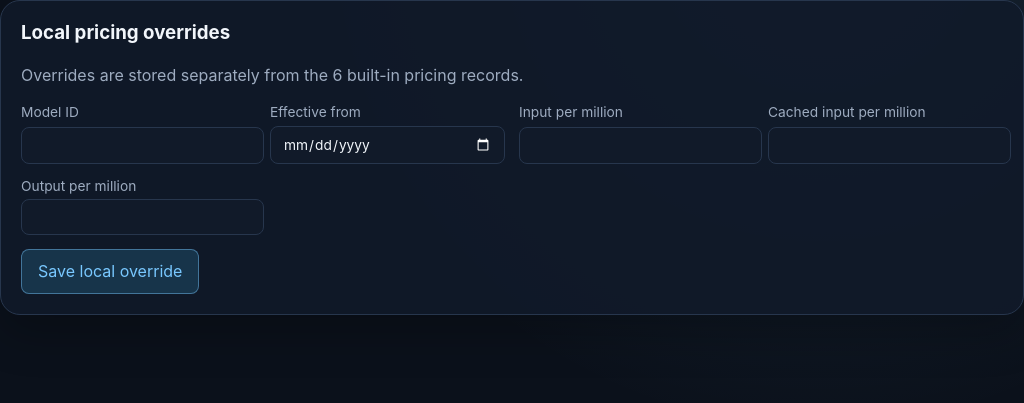
PricingEditor › persists local pricing overrides separately without mutating built-in pricing
This screenshot has width=1024, height=403.
Type "future-model-x" into the field labelled "Model ID" at (142, 145), box [21,127,264,164]
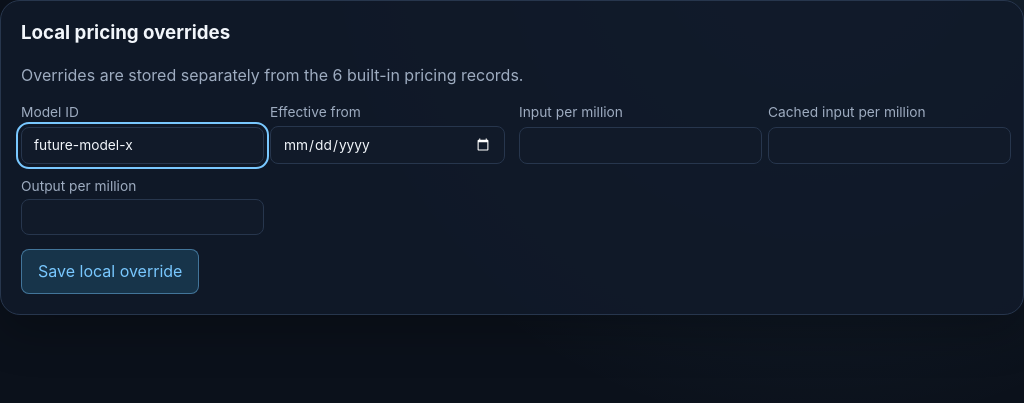
Type "2026-10-01" into the date field labelled "Effective from" at (388, 145), box [270,126,505,164]
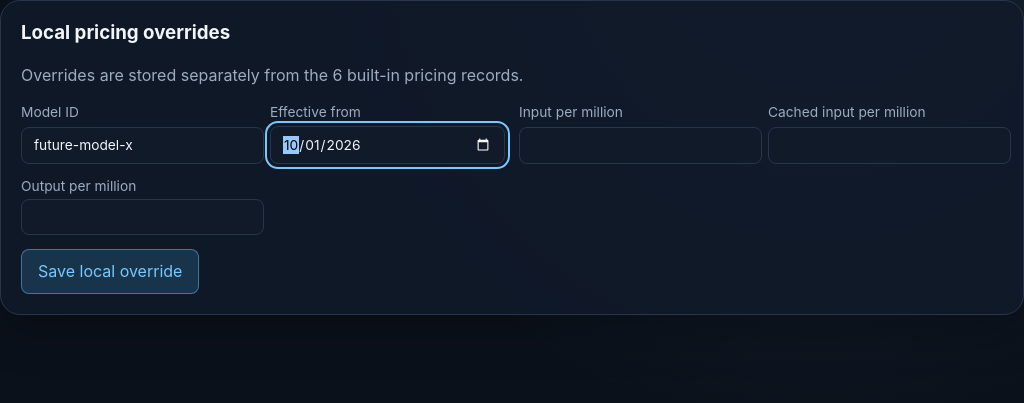
Type "3" into the field labelled "Input per million" at (640, 145), box [519,127,762,164]
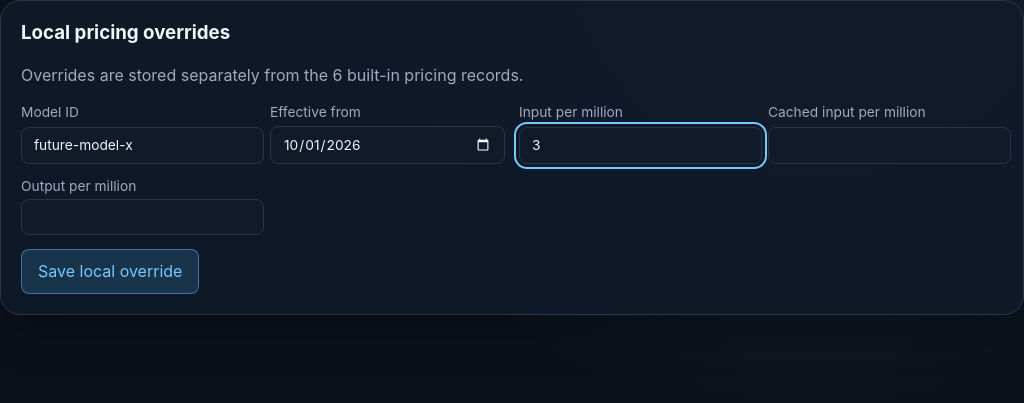
Type "0.3" into the field labelled "Cached input per million" at (890, 145), box [768,127,1011,164]
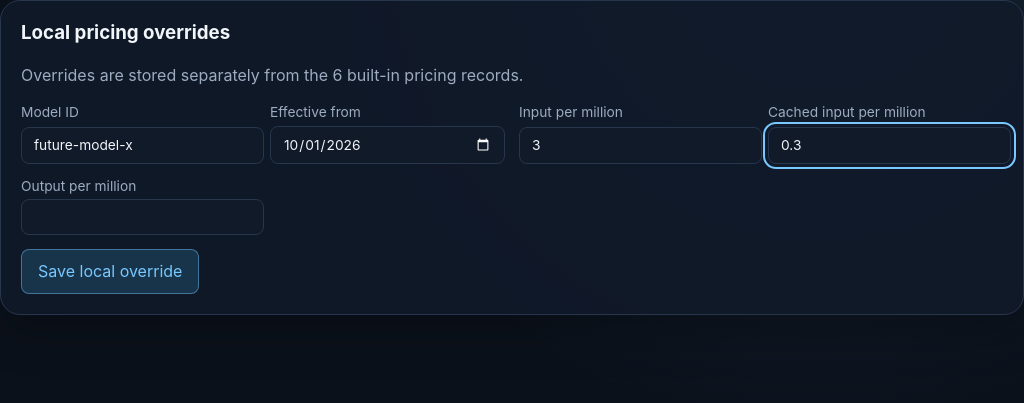
Type "15" into the field labelled "Output per million" at (142, 217), box [21,199,264,235]
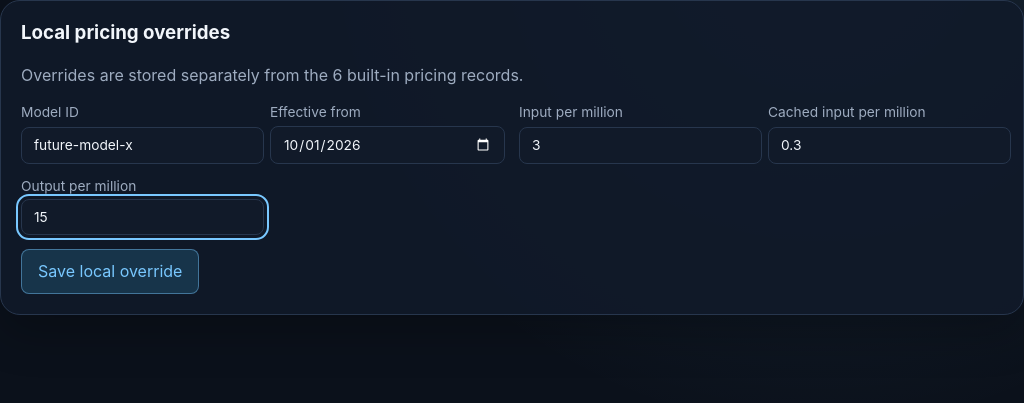
Click the button "Save local override" at (110, 271), box [21,249,199,294]
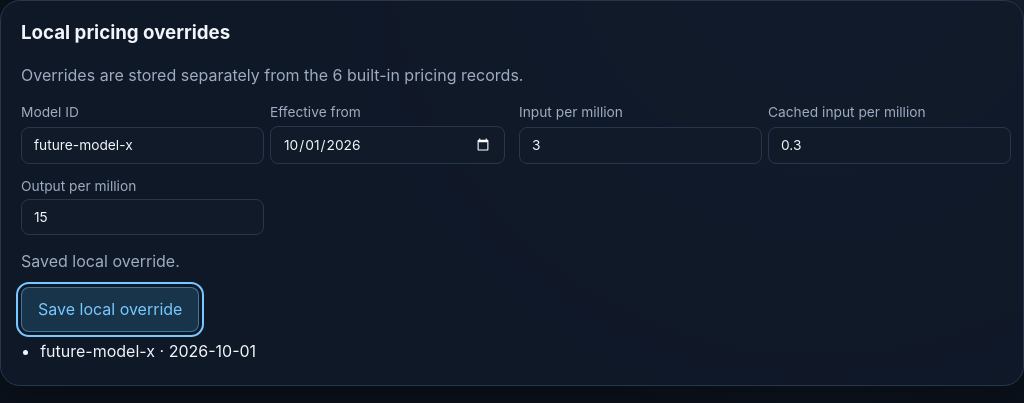
expect the text "Saved local override." is shown: met, box [21,251,180,271]
